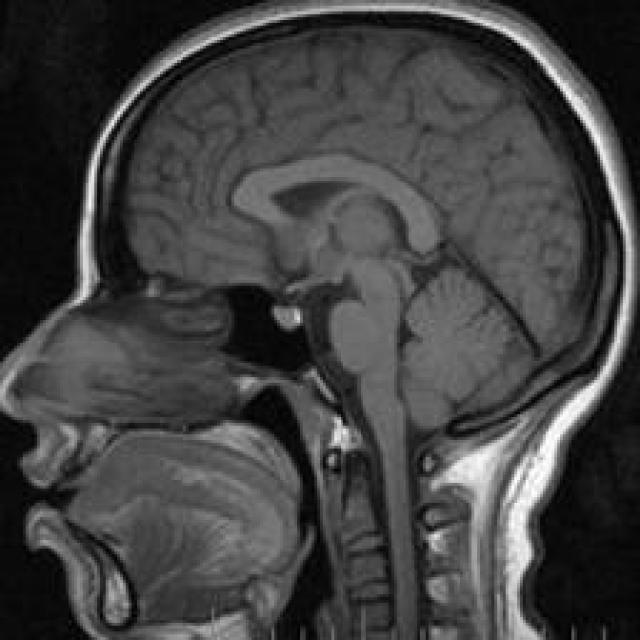no_tumor: (65, 7, 640, 514)
